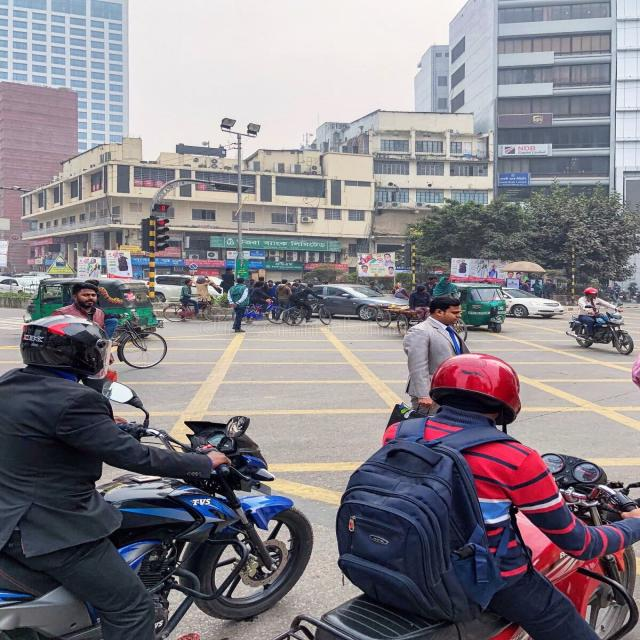Motorbike: (1, 409, 310, 640), (305, 433, 640, 640), (569, 309, 638, 359)
traffic-police: (221, 278, 254, 333)
